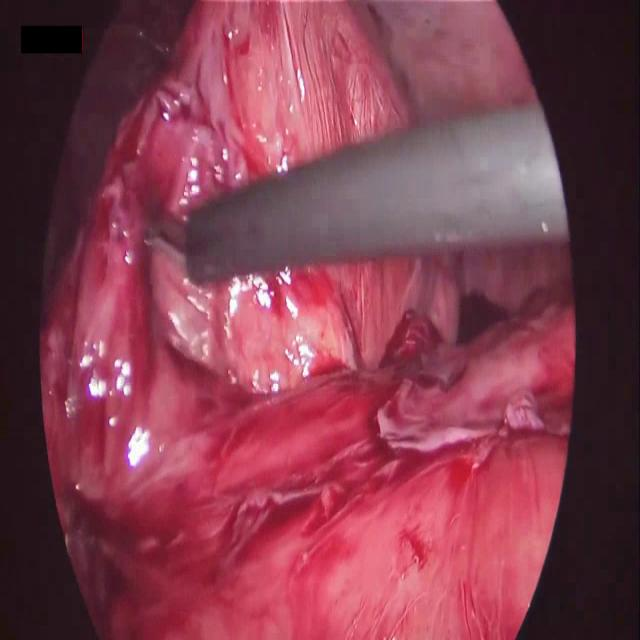surgical-area: (38, 0, 576, 639)
surgical-tool: (182, 94, 575, 295)
